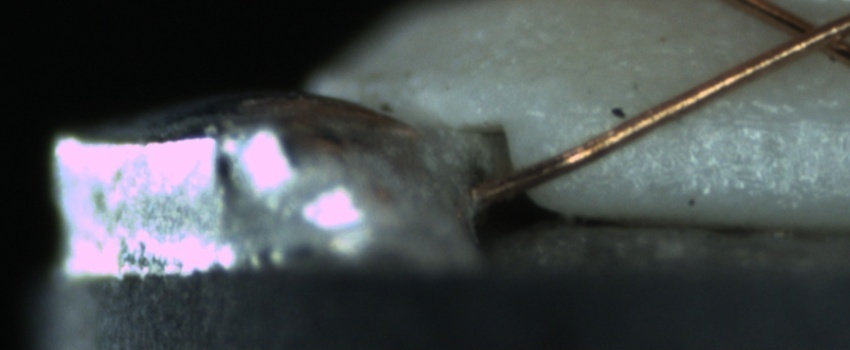CL: (764, 4, 849, 65)
DL: (611, 86, 850, 151)
